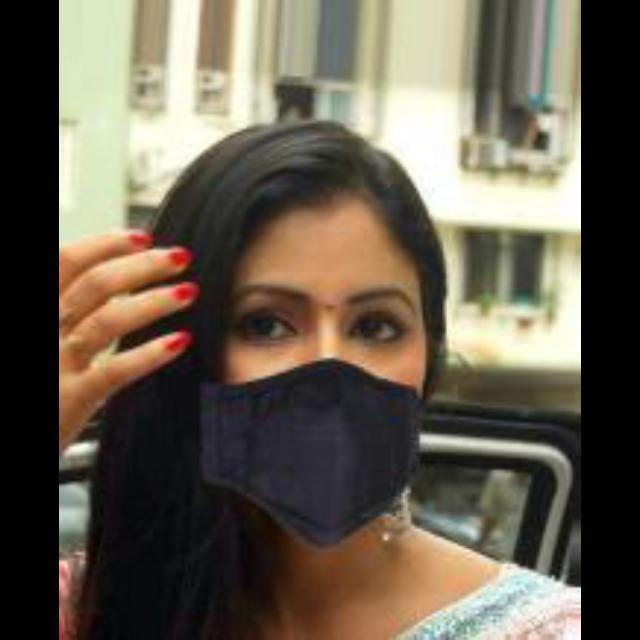suspicion: (181, 134, 421, 572)
